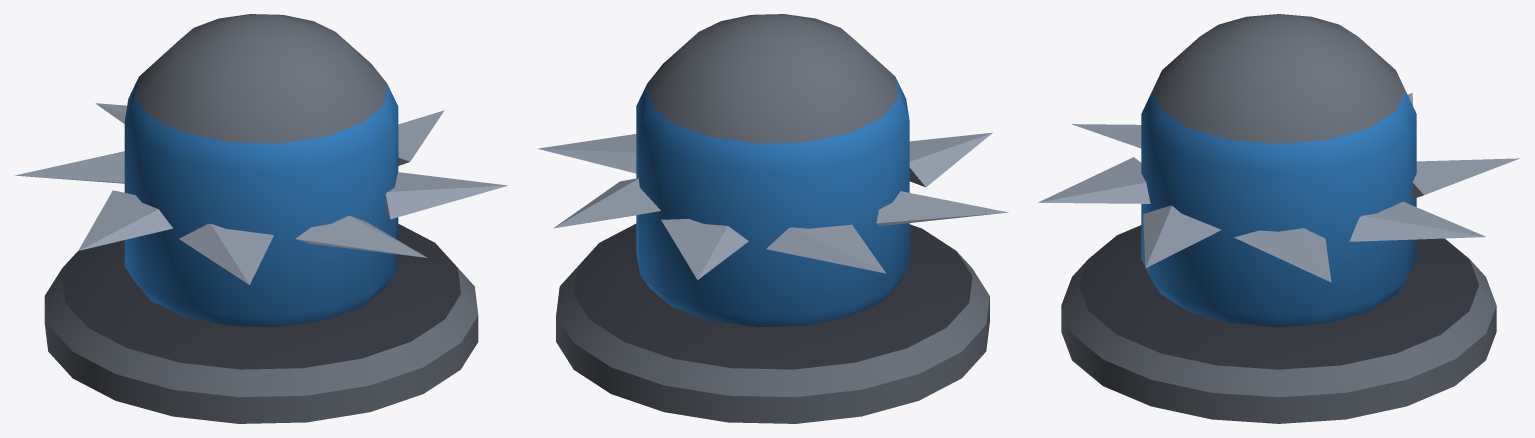
The picture shows the model from 3 angles, left to right: view 1: azimuth 30°, elevation 25°; view 2: azimuth 150°, elevation 25°; view 3: azimuth 270°, elevation 25°; orthographic projection.
Visible parts, largest first — view 1: tachinha_1_torreta, tachinha_0_base; view 2: tachinha_1_torreta, tachinha_0_base; view 3: tachinha_1_torreta, tachinha_0_base.
Part boxes in pixels (x1=…): tachinha_1_torreta: x1=15, y1=14, x2=507, y2=327; tachinha_0_base: x1=44, y1=224, x2=478, y2=423; tachinha_1_torreta: x1=537, y1=14, x2=1008, y2=327; tachinha_0_base: x1=556, y1=224, x2=989, y2=423; tachinha_1_torreta: x1=1038, y1=14, x2=1519, y2=327; tachinha_0_base: x1=1061, y1=225, x2=1496, y2=423.
Size of the model in its own units: 0.7548 by 0.53 by 0.7548.
